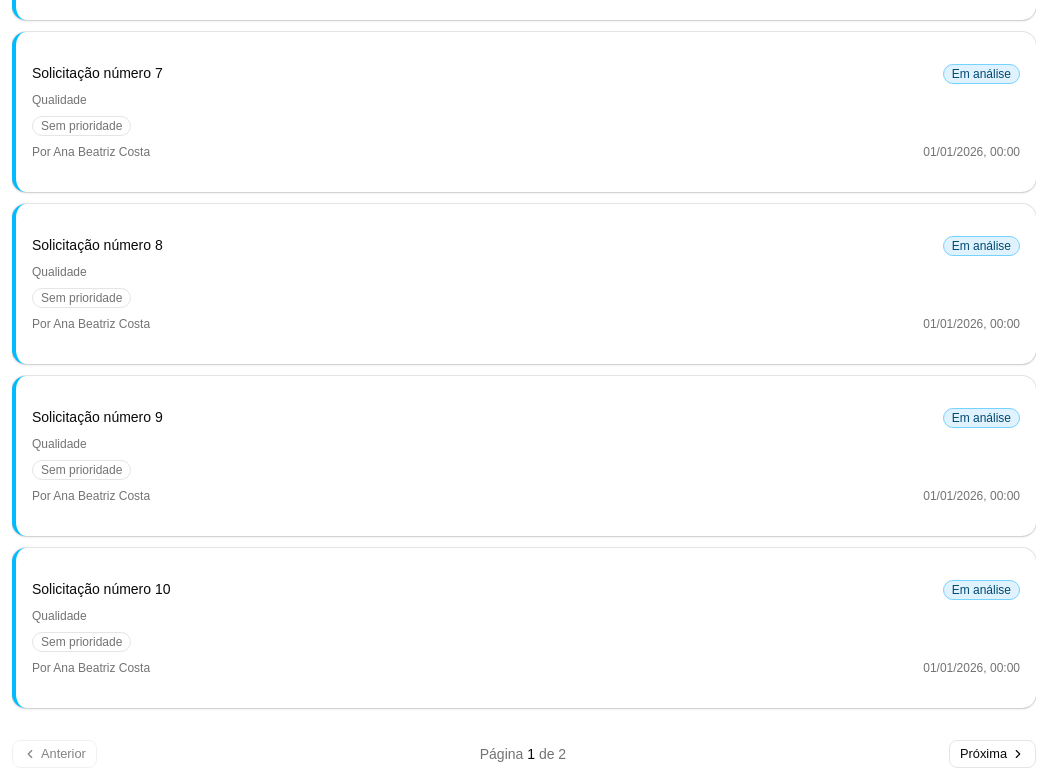
Test case: ListPage › pagina a lista em blocos de 10 itens
The width and height of the screenshot is (1048, 768).
(page scrolled)
Check: the heading "Solicitação número 10" is shown, box x1=32 y1=580 x2=170 y2=599
Check: the text "Solicitação número 11" is not shown
What coordinates should you click on to do the following:
click the button "Próxima"
I would click on:
 (993, 754)
Its box is x1=949 y1=740 x2=1036 y2=767.
(page scrolled)
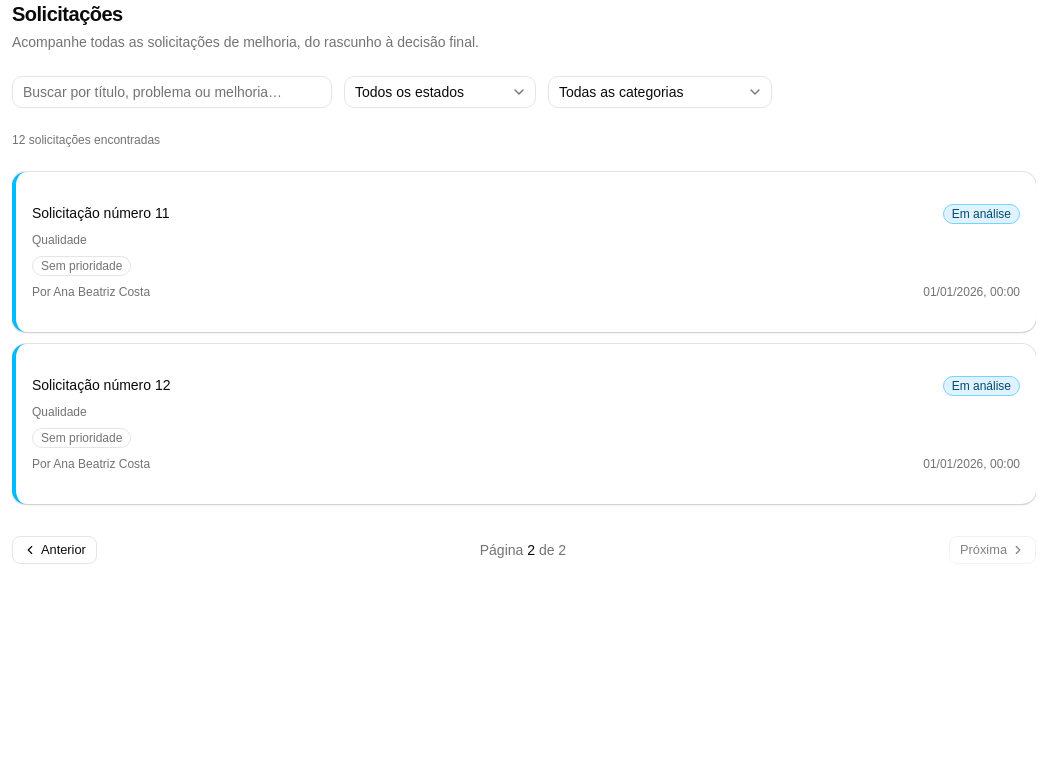
Check: the heading "Solicitação número 11" is shown, box x1=32 y1=204 x2=170 y2=223
Check: the heading "Solicitação número 12" is shown, box x1=32 y1=376 x2=170 y2=395
Check: the button "Próxima" is disabled, box x1=949 y1=536 x2=1036 y2=564
